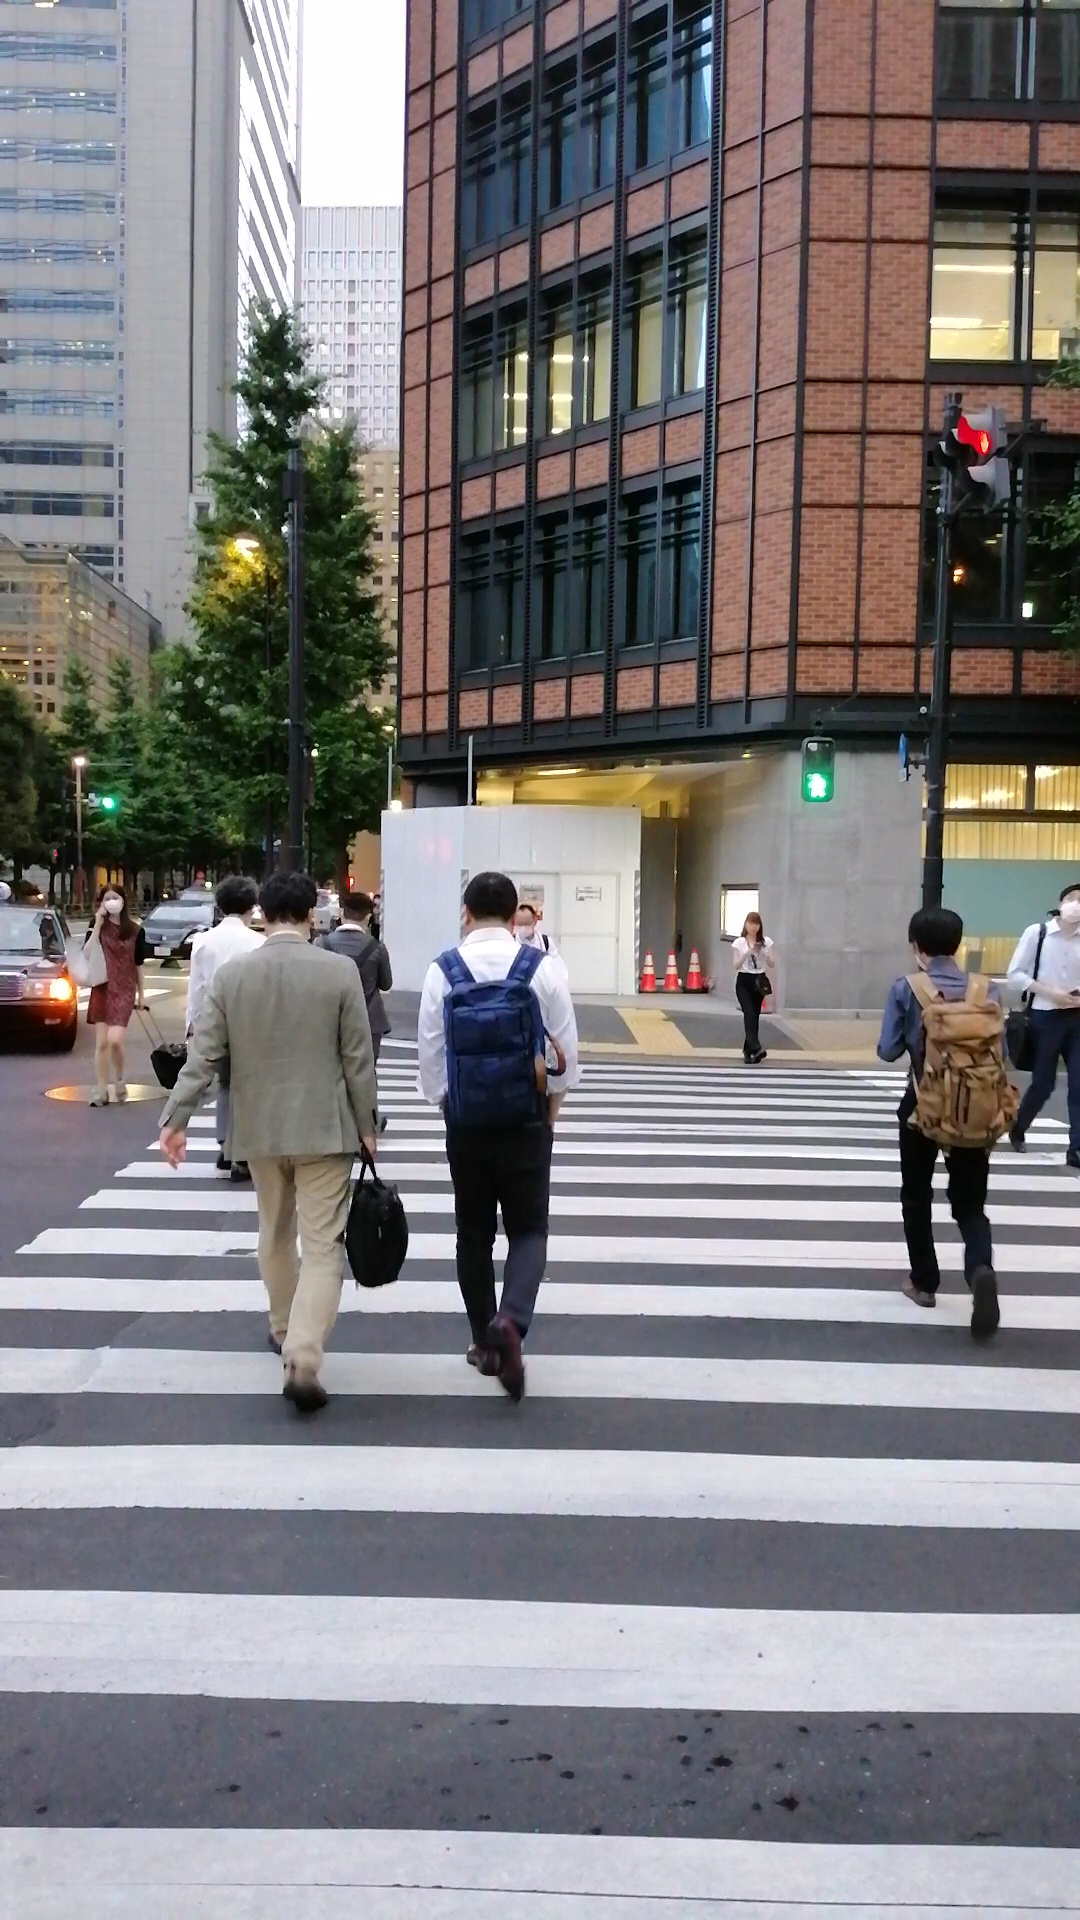green: (798, 735, 835, 803)
